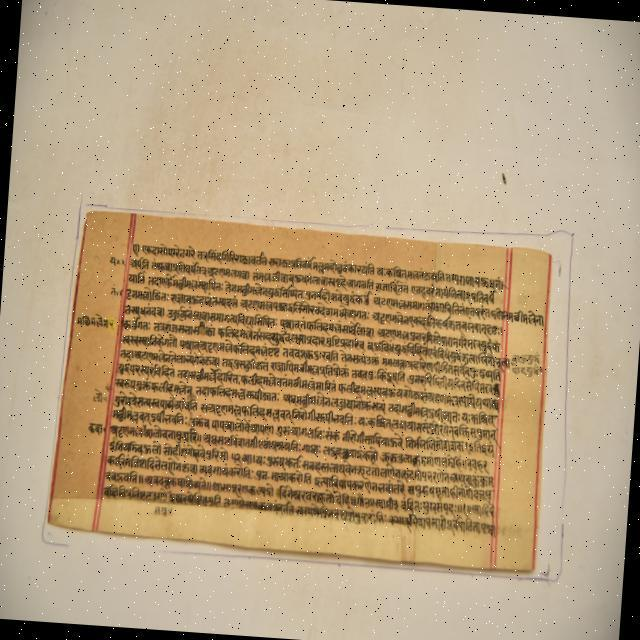text_paragraph: (45, 210, 548, 567)
